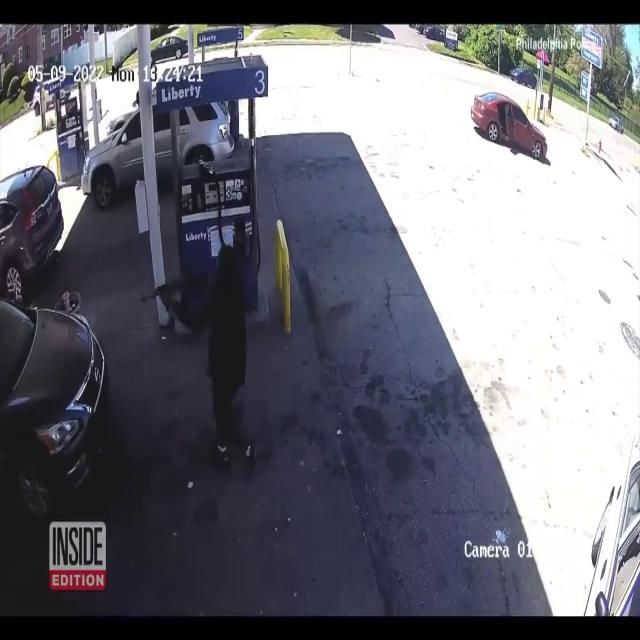penembakan: (143, 249, 260, 465)
